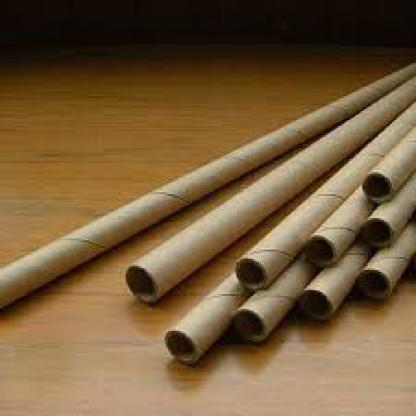CARDBOARD: (0, 61, 414, 305), (122, 72, 414, 301), (233, 98, 414, 288), (163, 272, 251, 364), (303, 185, 370, 266), (296, 249, 368, 320), (353, 228, 414, 302), (361, 122, 414, 203), (361, 176, 414, 250)
